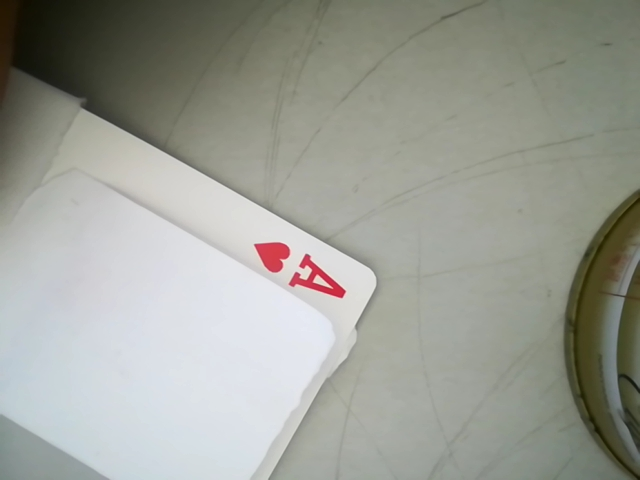hx a: (244, 230, 363, 305)
